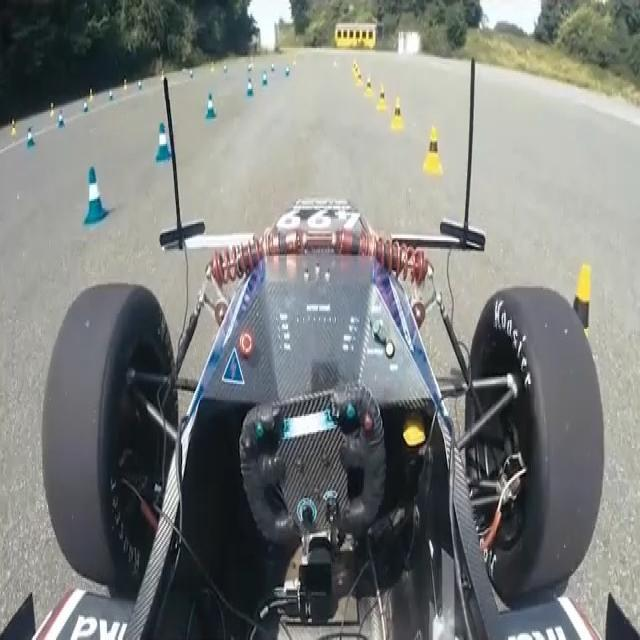blue_cone: (81, 163, 110, 228), (154, 120, 172, 160), (204, 92, 217, 118)
yellow_cone: (557, 261, 591, 382), (422, 124, 443, 175), (389, 96, 406, 130)
